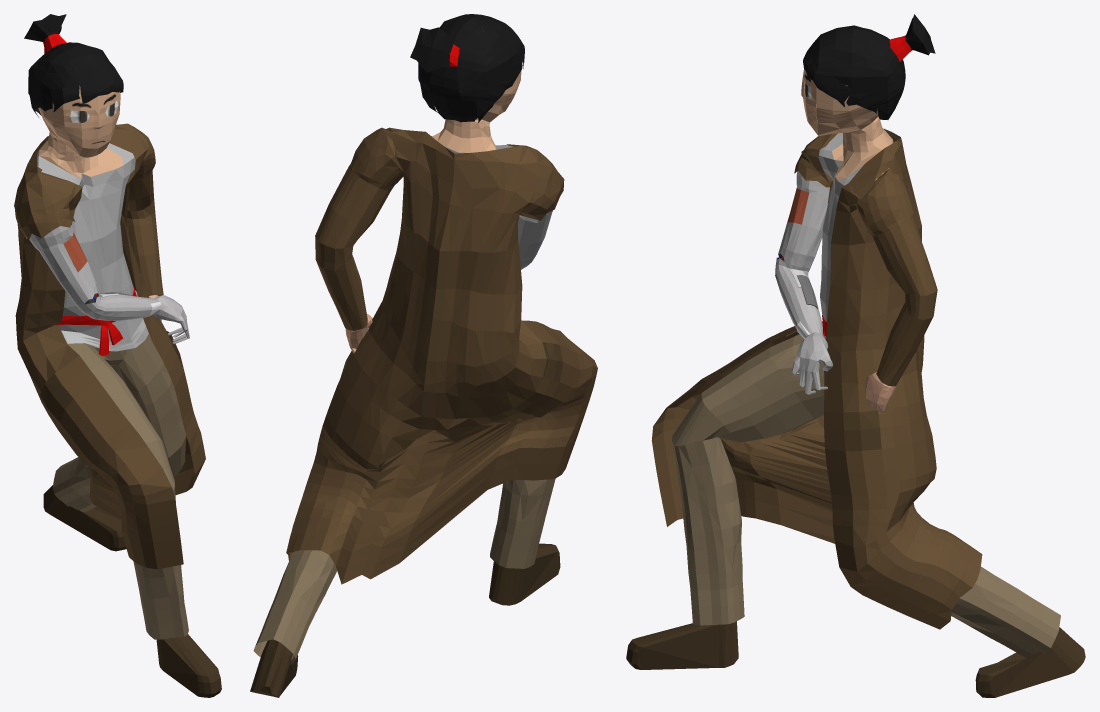
Rendered from One_RL_000023.obj.
The picture shows the model from 3 angles, left to right: view 1: azimuth 30°, elevation 25°; view 2: azimuth 150°, elevation 25°; view 3: azimuth 270°, elevation 25°; orthographic projection. The views are drawn at different scales.
Parts seen in each view (by area): view 1: Hair_Cube.004; view 2: Hair_Cube.004; view 3: Hair_Cube.004.
Boxes of the visible parts, x1,y1,x2,y2 form: Hair_Cube.004: [14, 14, 221, 697]; Hair_Cube.004: [250, 14, 597, 697]; Hair_Cube.004: [626, 14, 1085, 697].
Bounding box in the file's own units: 1.21 × 3.46 × 2.28.
